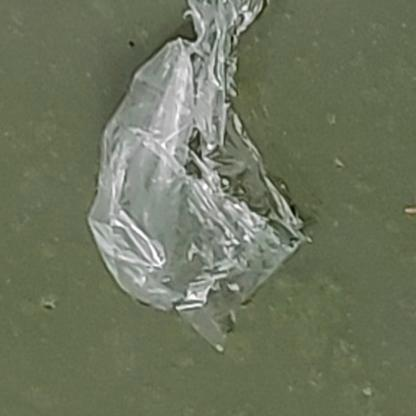Trash: (84, 0, 312, 355)
